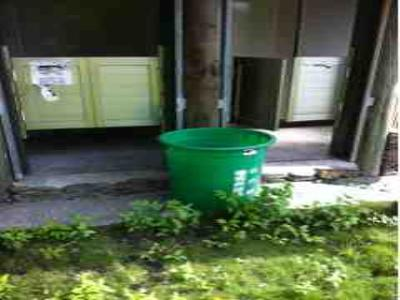bucket: (151, 125, 280, 223)
